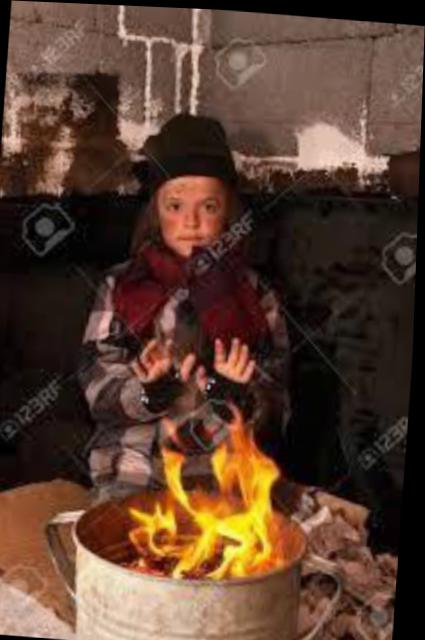fire: (86, 384, 327, 586)
